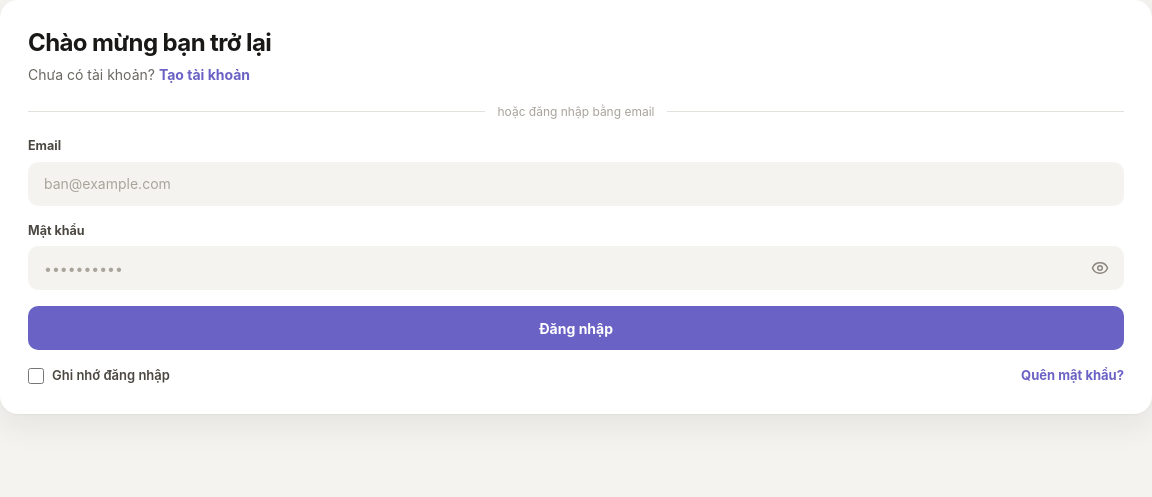
LoginPage — câu lỗi của BE theo ngôn ngữ đang hiển thị › locale en ⇒ hiện câu tiếng Anh của FE
Type "hiep@flintflow.vn" into the field labelled "Email" at (576, 184), box [28,162,1124,206]
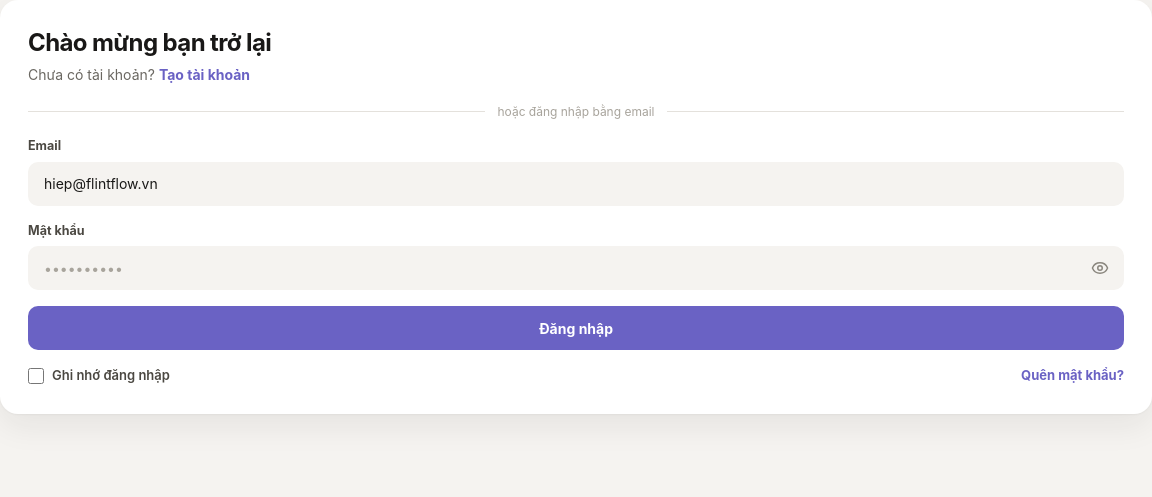
Type "sai-mat-khau" into the password field labelled "Mật khẩu" at (576, 268), box [28,246,1124,290]
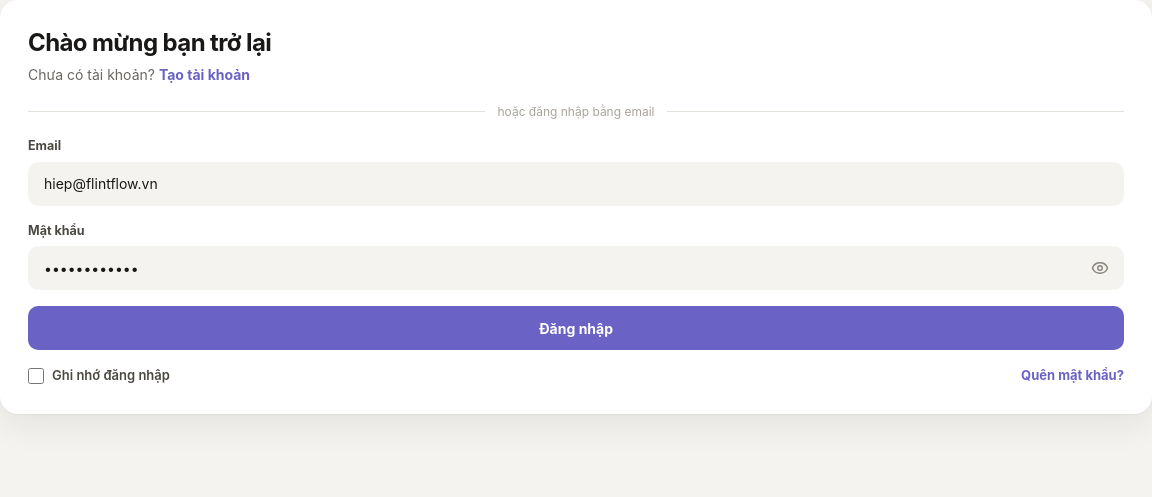
Click the button "Đăng nhập" at (576, 328), box [28,306,1124,350]
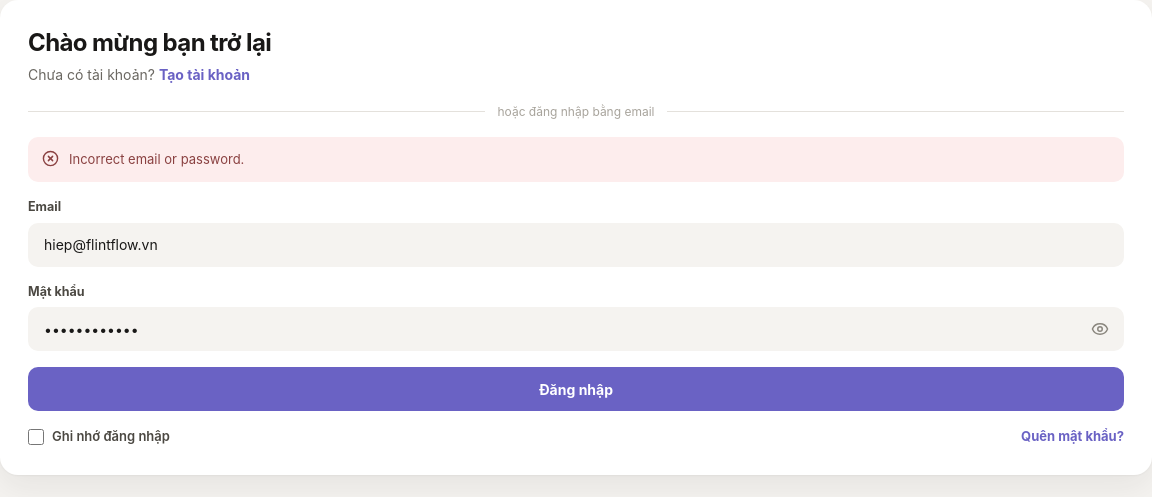
Check: the text "Incorrect email or password." is shown, box [69,151,244,167]
